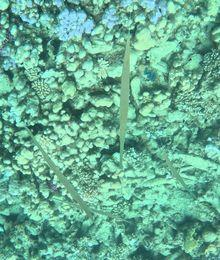Fistularia commersonii: (5, 92, 138, 236), (93, 20, 166, 196)
